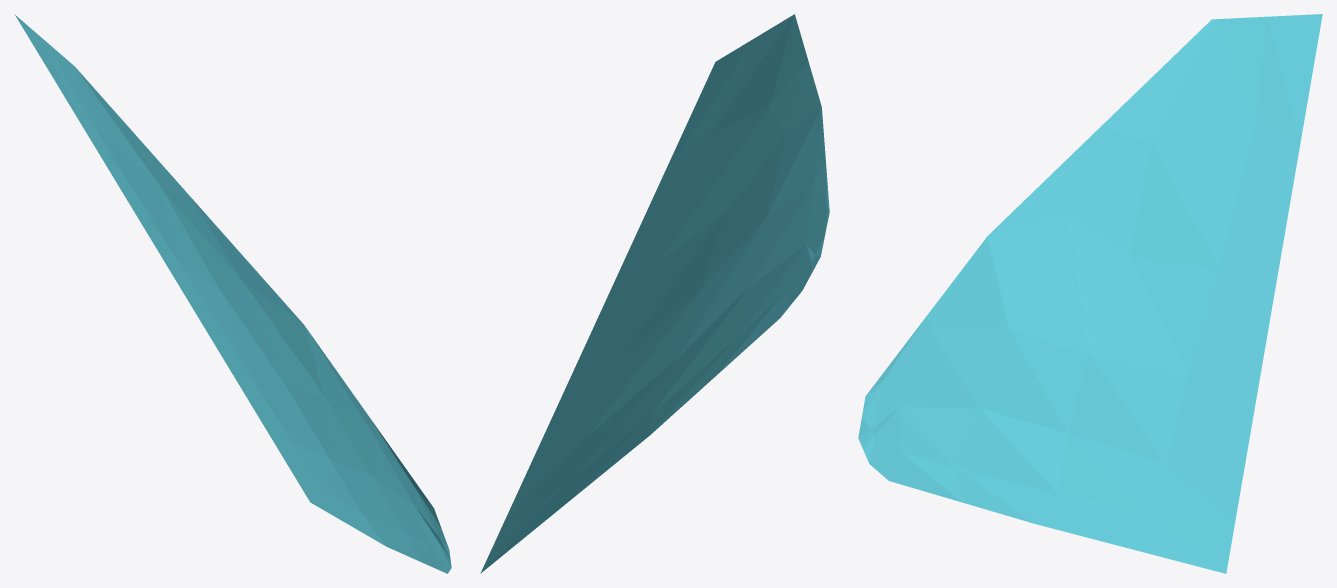
Rendered from Muscle_1_Glass_RR_Tesselated.fbx.
The picture shows the model from 3 angles, left to right: view 1: azimuth 30°, elevation 25°; view 2: azimuth 150°, elevation 25°; view 3: azimuth 270°, elevation 25°; orthographic projection. The views are drawn at different scales.
Visible parts, largest first — view 1: Muscle_1_Glass_RR_Tesselated; view 2: Muscle_1_Glass_RR_Tesselated; view 3: Muscle_1_Glass_RR_Tesselated.
Boxes of the visible parts, bbox=[...] form: Muscle_1_Glass_RR_Tesselated: bbox=[14, 14, 451, 573]; Muscle_1_Glass_RR_Tesselated: bbox=[480, 14, 829, 573]; Muscle_1_Glass_RR_Tesselated: bbox=[858, 14, 1322, 573].
Size of the model in its own units: 11.08 by 22.09 by 20.47.
